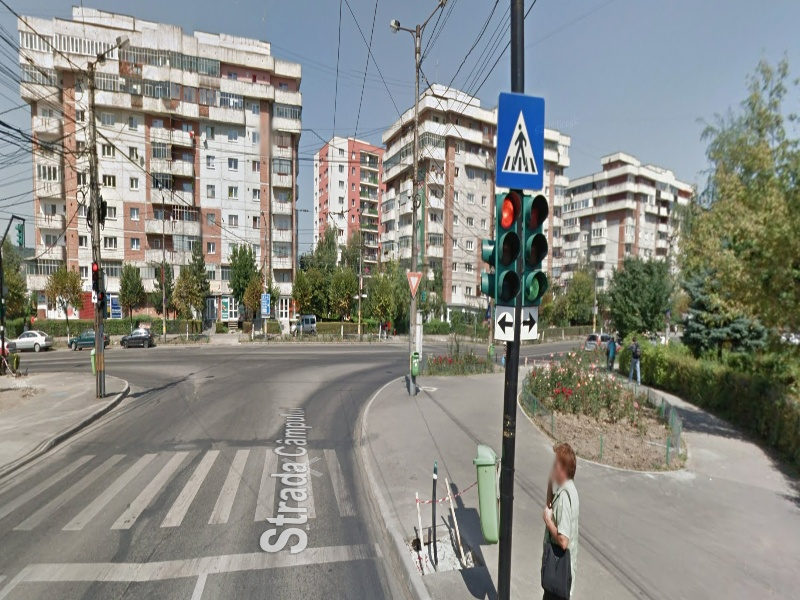crosswalk: (1, 443, 378, 583)
crosswalk_sign: (490, 90, 547, 194)
pedestrian: (533, 436, 585, 600)
semaphore: (479, 192, 548, 345)
